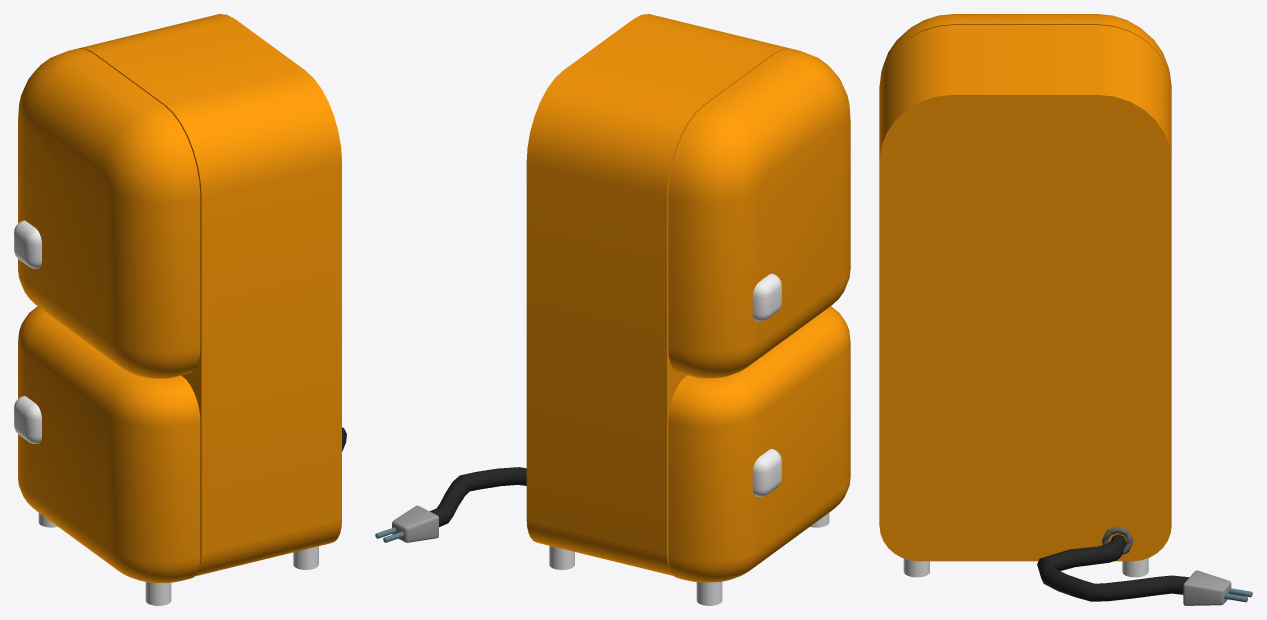
Rendered from Fridge.fbx.
The picture shows the model from 3 angles, left to right: view 1: azimuth 30°, elevation 25°; view 2: azimuth 150°, elevation 25°; view 3: azimuth 270°, elevation 25°; orthographic projection. The views are drawn at different scales.
Visible parts, largest first — view 1: Fridge; view 2: Fridge; view 3: Fridge.
Part boxes in pixels (x1,y1,x2,y2): Fridge: (14, 14, 346, 605); Fridge: (375, 14, 850, 605); Fridge: (879, 14, 1252, 605).
Bounding box in the file's own units: 0.9779 × 0.9425 × 1.35.
